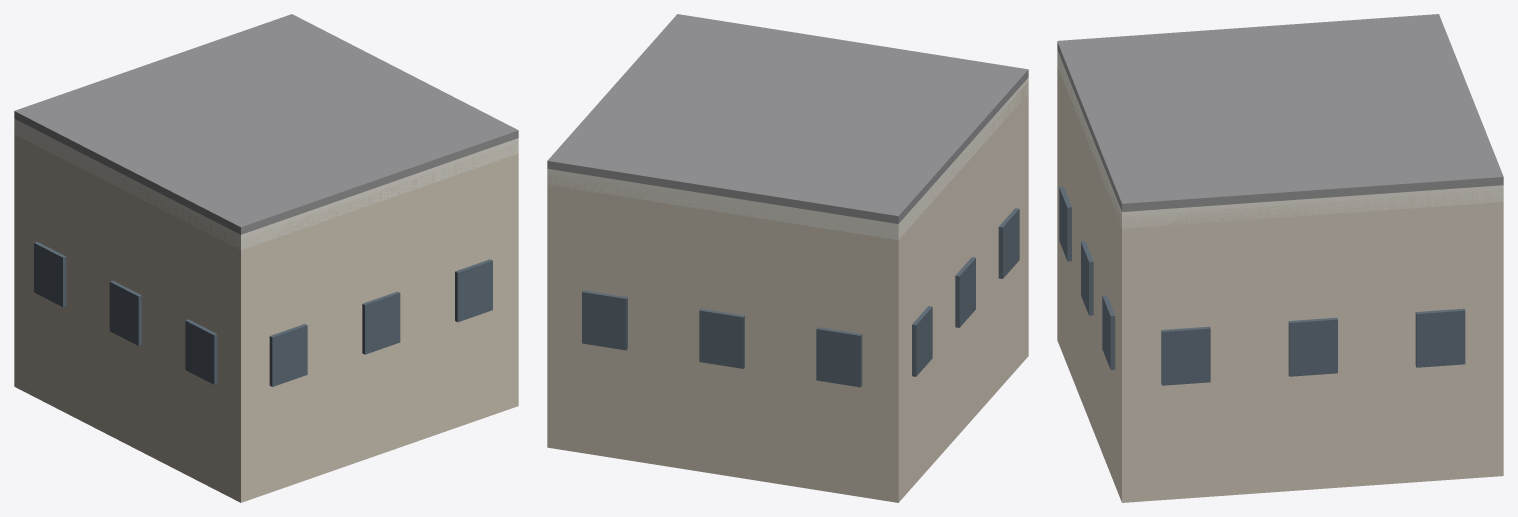
Rendered from s46_gis_248141_820715.glb.
The picture shows the model from 3 angles, left to right: view 1: azimuth 30°, elevation 25°; view 2: azimuth 150°, elevation 25°; view 3: azimuth 270°, elevation 25°; orthographic projection. The views are drawn at different scales.
Visible parts, largest first — view 1: mass, roofcap, cornice, win_2_0_1, win_2_0_0, win_2_0_2, win_1_0_0, win_1_0_2, win_1_0_1; view 2: mass, roofcap, cornice, win_0_0_2, win_0_0_0, win_0_0_1, win_1_0_2, win_1_0_0, win_1_0_1; view 3: mass, roofcap, cornice, win_3_0_2, win_3_0_0, win_3_0_1, win_2_0_2, win_2_0_0, win_2_0_1.
Boxes of the visible parts, x1,y1,x2,y2 form: mass: [14, 134, 518, 502]; roofcap: [14, 14, 518, 234]; cornice: [14, 119, 518, 250]; win_2_0_1: [362, 291, 400, 354]; win_2_0_0: [269, 324, 307, 386]; win_2_0_2: [455, 259, 492, 322]; win_1_0_0: [34, 242, 66, 307]; win_1_0_2: [185, 319, 217, 384]; win_1_0_1: [109, 280, 141, 345]; mass: [547, 82, 1028, 502]; roofcap: [547, 14, 1028, 223]; cornice: [547, 77, 1028, 240]; win_0_0_2: [816, 327, 862, 387]; win_0_0_0: [582, 290, 627, 350]; win_0_0_1: [699, 308, 744, 368]; win_1_0_2: [998, 208, 1019, 278]; win_1_0_0: [912, 306, 932, 376]; win_1_0_1: [955, 257, 975, 327]; mass: [1057, 55, 1503, 502]; roofcap: [1057, 14, 1503, 211]; cornice: [1057, 50, 1503, 228]; win_3_0_2: [1415, 308, 1465, 367]; win_3_0_0: [1161, 326, 1210, 385]; win_3_0_1: [1288, 317, 1337, 376]; win_2_0_2: [1102, 295, 1115, 369]; win_2_0_0: [1059, 186, 1071, 261]; win_2_0_1: [1081, 241, 1093, 315].
Bounding box in the file's own units: 11.37 × 8.35 × 11.3.
